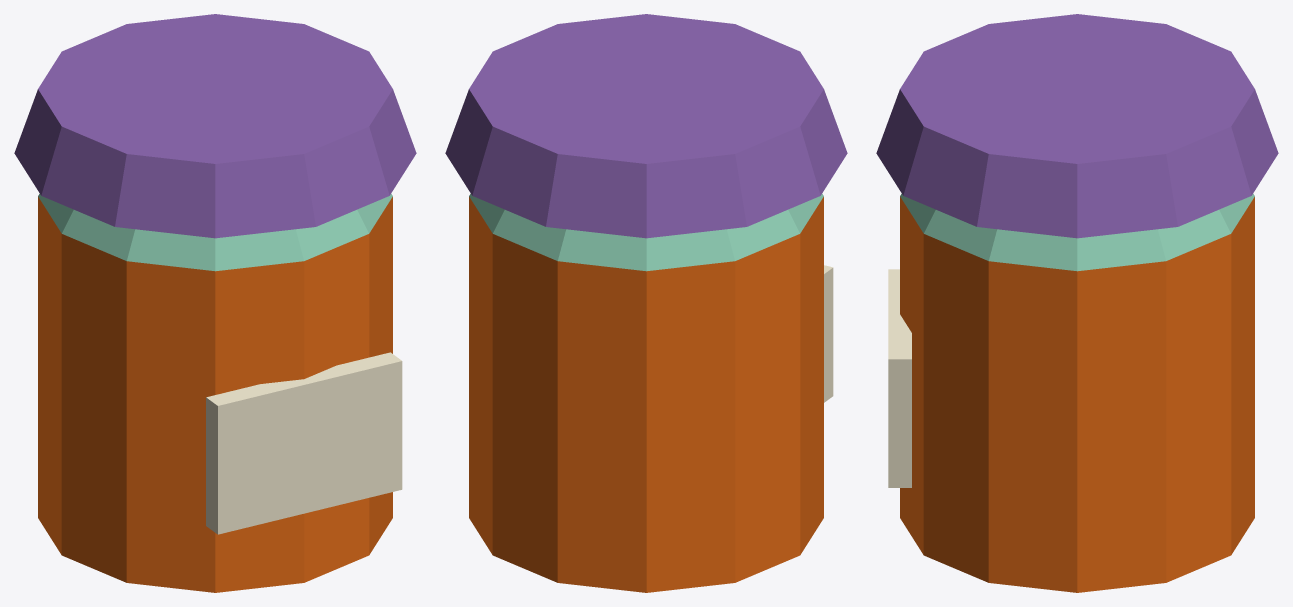
File: pumpkin_sweet.obj
3 renders of one model, left to right at view 1: azimuth 30°, elevation 25°; view 2: azimuth 150°, elevation 25°; view 3: azimuth 270°, elevation 25°, orthographic.
Parts seen in each view (by area): view 1: item; view 2: item; view 3: item.
Part boxes in pixels (x1,y1,x2,y2): item: (14, 14, 416, 592); item: (445, 14, 847, 592); item: (876, 14, 1278, 592).
Size of the model in its own units: 0.34 by 0.4 by 0.34.
